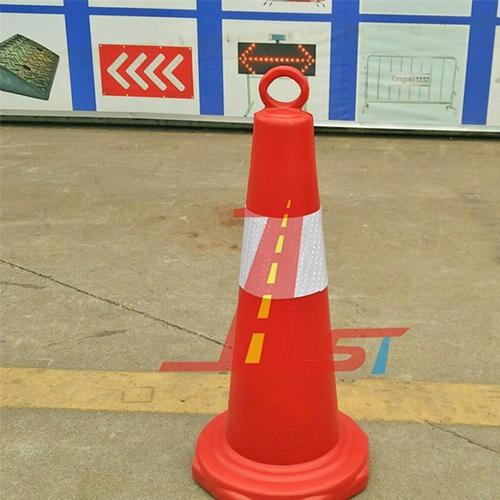cone_barrel: (200, 67, 363, 481)
